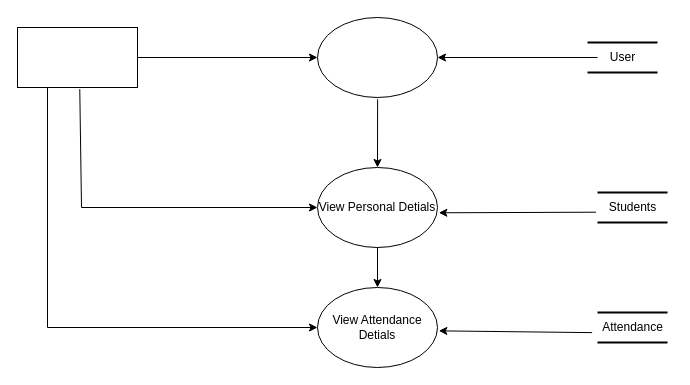
This 690x385 diagram has some shape labels left out. The shapes that lost their labels are listed below. From the top down, each one's box as (x1, y1, x2, y2) in pixels, then its label:
(16, 26, 138, 88): STUDENT
(316, 16, 438, 98): Student Login Process
